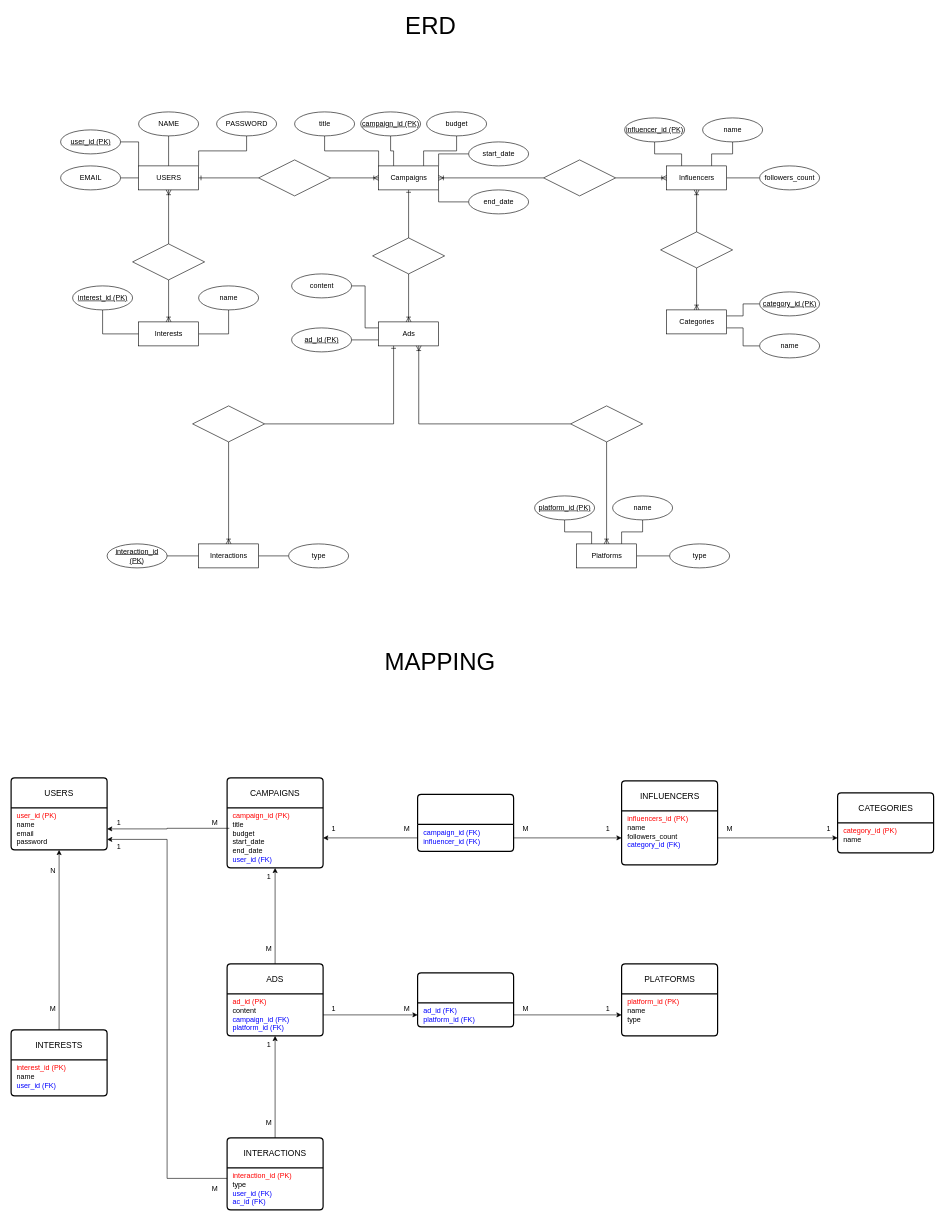
Some shapes in this 944 by 1225 pixel diagram are drawn without their labels. Here are the shapes that lost their labels. From the top down, the box of each, then its label:
(258, 159, 331, 196): creates
(543, 159, 616, 196): collaborates with
(132, 243, 205, 280): has
(372, 237, 445, 274): contains
(660, 231, 733, 268): belongs to
(192, 405, 265, 442): receives interactions
(570, 405, 643, 442): published on
(417, 794, 514, 852): Campaign_influencers
(417, 972, 514, 1027): Ad_Platforms
